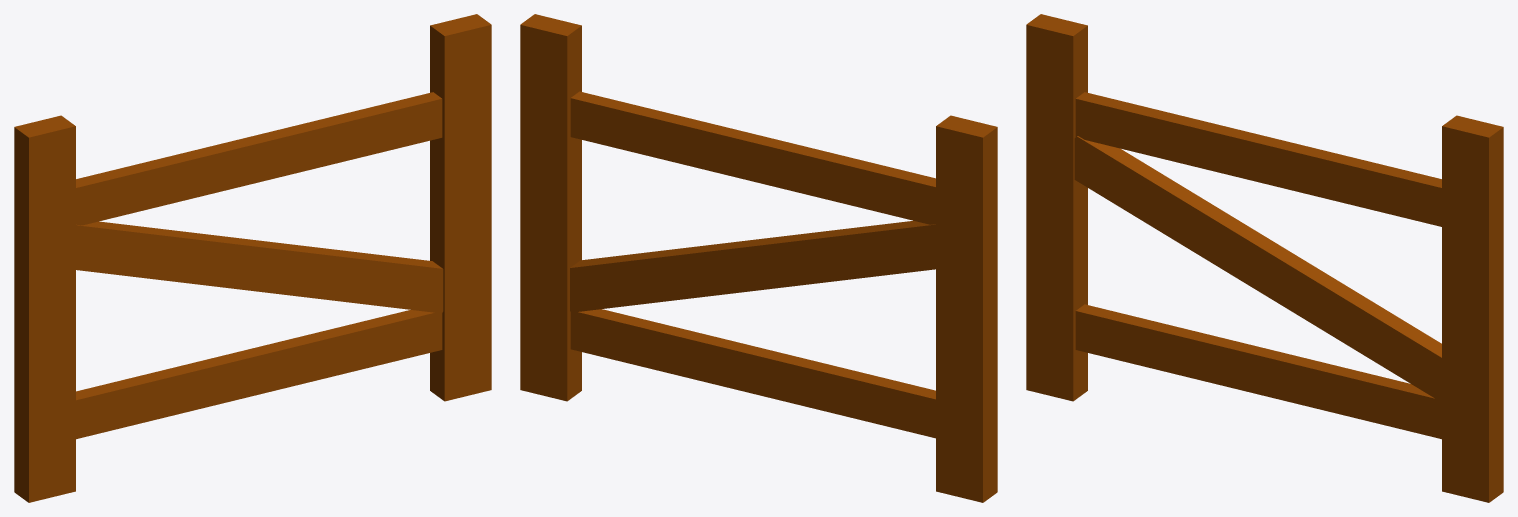
Rendered from Prop_Fence_Wooden_Small_02.fbx.
3 views of the same model, side by side, from view 1: azimuth 30°, elevation 25°; view 2: azimuth 150°, elevation 25°; view 3: azimuth 330°, elevation 25° (orthographic).
Visible parts, largest first — view 1: Prop_Fence_Wooden_Small_02; view 2: Prop_Fence_Wooden_Small_02; view 3: Prop_Fence_Wooden_Small_02.
Boxes of the visible parts, box(x1,y1,x2,y2) form: Prop_Fence_Wooden_Small_02: box(14, 14, 491, 502); Prop_Fence_Wooden_Small_02: box(520, 14, 997, 502); Prop_Fence_Wooden_Small_02: box(1026, 14, 1503, 502).
Bounding box in the file's own units: 47.27 × 35.64 × 2.59.
